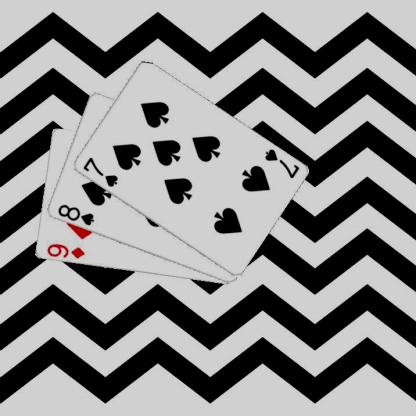7S: (80, 155, 119, 188), (262, 147, 300, 180)
8S: (55, 202, 95, 227)
9D: (44, 241, 86, 260)
